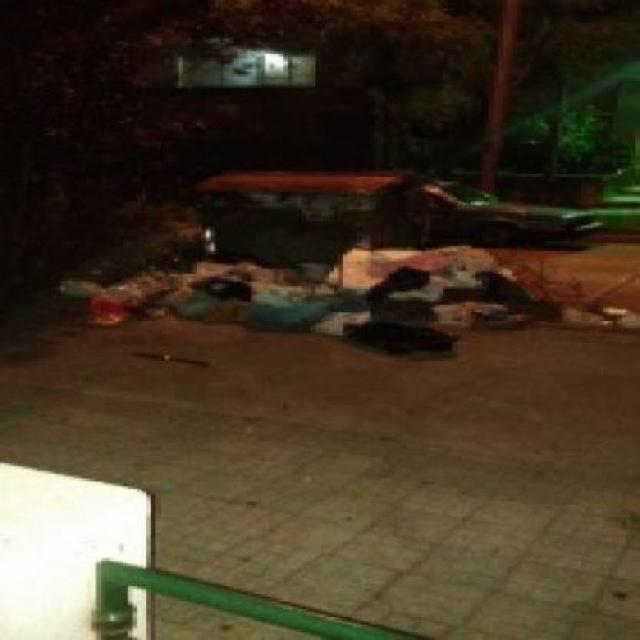garbage: (96, 246, 480, 340)
